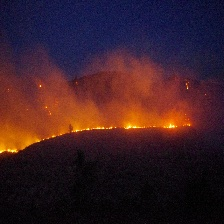fire: (1, 120, 193, 159)
smoke: (2, 64, 218, 116)
